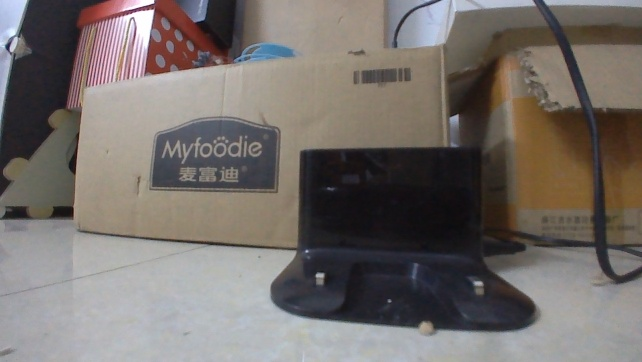charger: (264, 142, 539, 335)
wire: (483, 0, 641, 285), (390, 0, 441, 42)
